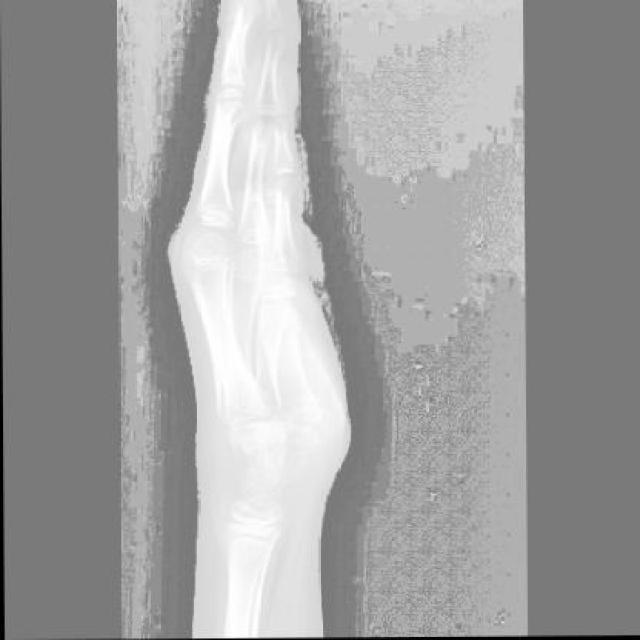Fracture: (231, 431, 288, 482)
